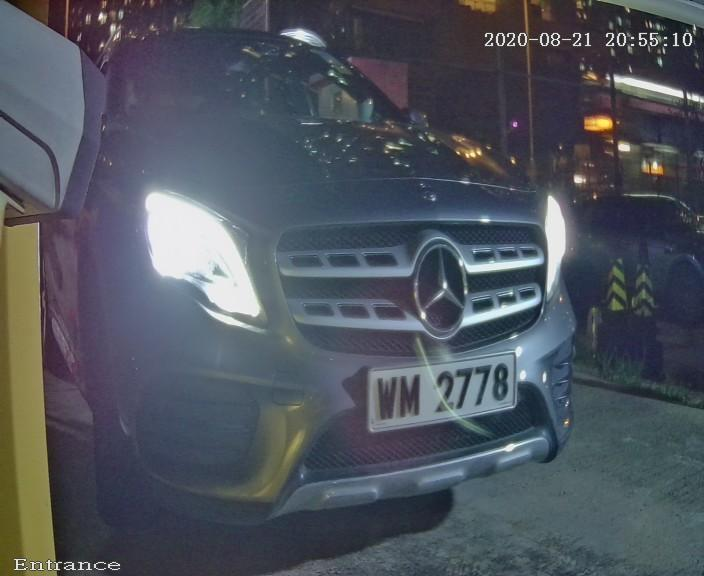Car: (10, 1, 632, 559)
License Plate: (348, 336, 532, 454)
